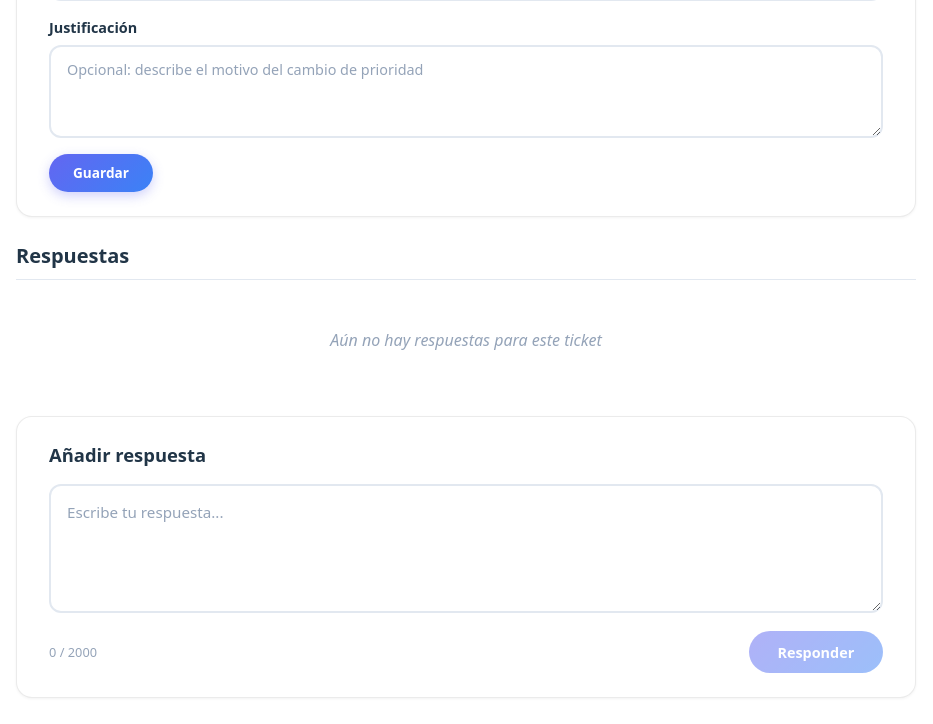
Test: TicketDetail — HU-3.2: Formulario de respuesta (solo ADMIN, ticket no CLOSED) › envío exitoso de respuesta › la nueva respuesta aparece en la lista
(page scrolled)
Type "Esta es la nueva respuesta del admin" into the text box with test id "response-textarea" at (466, 549), box [49,484,883,614]
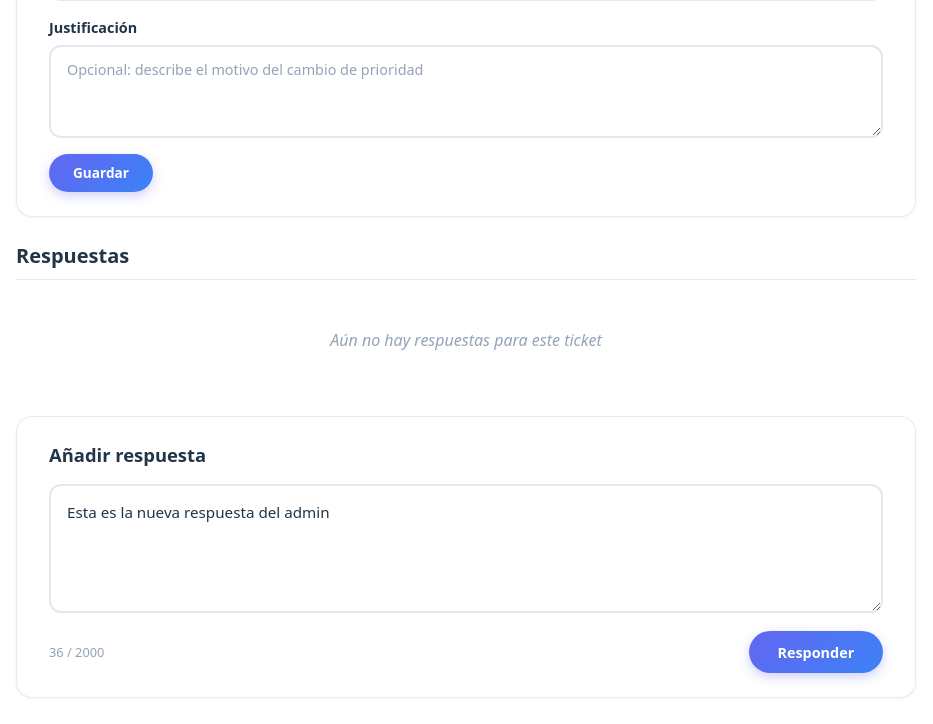
Click the button "Responder" at (816, 652), box [749,632,883,673]
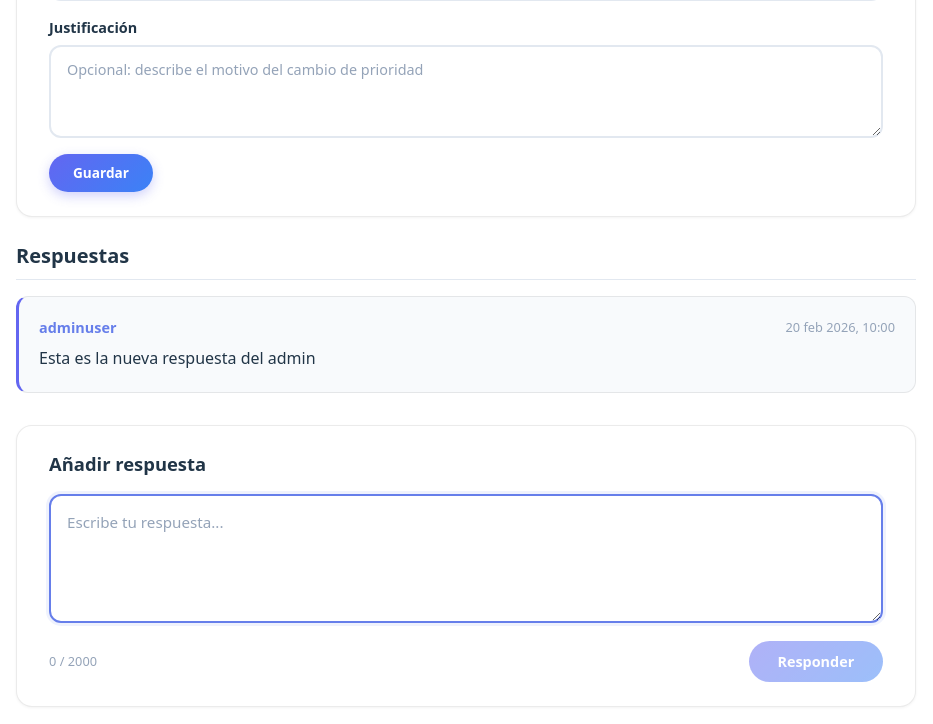
Expected: the text "Esta es la nueva respuesta del admin" is shown, [39,347,316,369]
